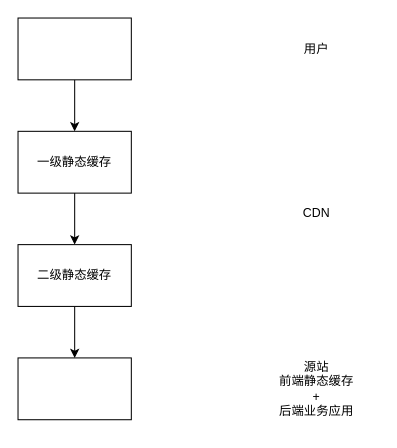
Image size: 397x448. Some labels were removed from this diagram. The centre of each missing label's shape, as x and y in pixels:
"业务应用层" goes at (74,388).
"用户请求" goes at (74,48).
